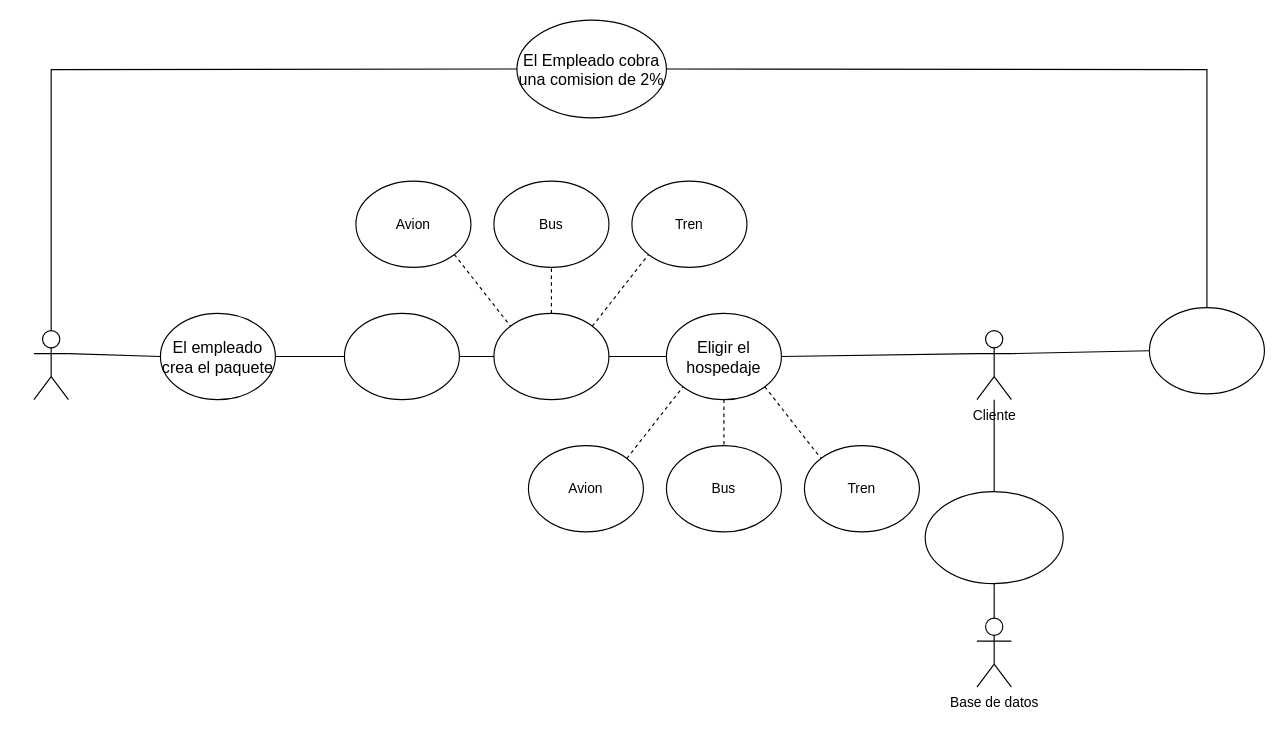
The diagram is 1285 pixels wide and 731 high, and some of its shapes have lost their labels. The shapes that lost their labels are listed below. From the top down, each one's centre as x and y in pixels, then its label:
(x=50, y=364): Empleado
(x=401, y=356): Elegir el destino
(x=551, y=356): Eligir el Transporte
(x=1206, y=350): El cliente paga
(x=993, y=537): Se guardan todos los datos en la BD
